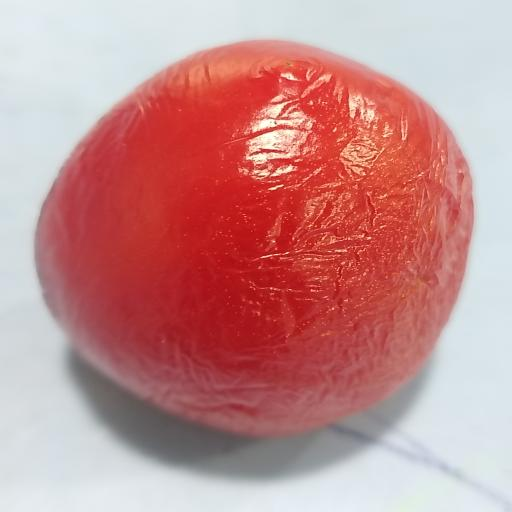spoiled: (36, 41, 473, 435)
